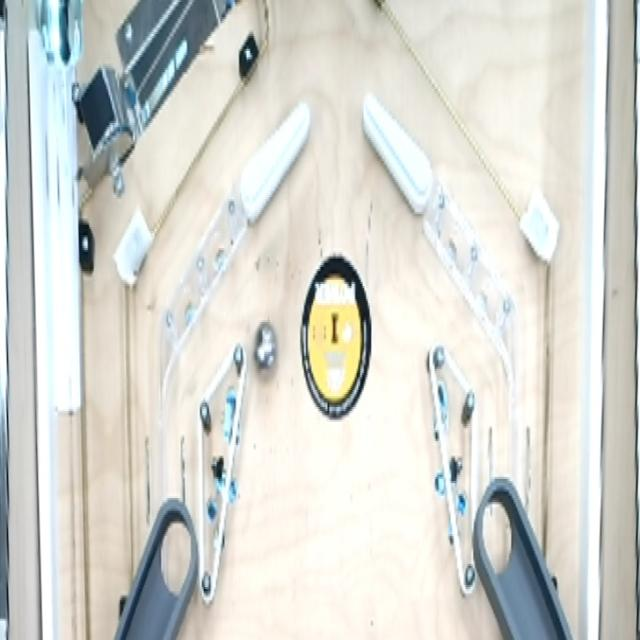ball: (251, 319, 280, 386)
flipper-left: (362, 83, 437, 224)
flipper-right: (238, 99, 318, 230)
